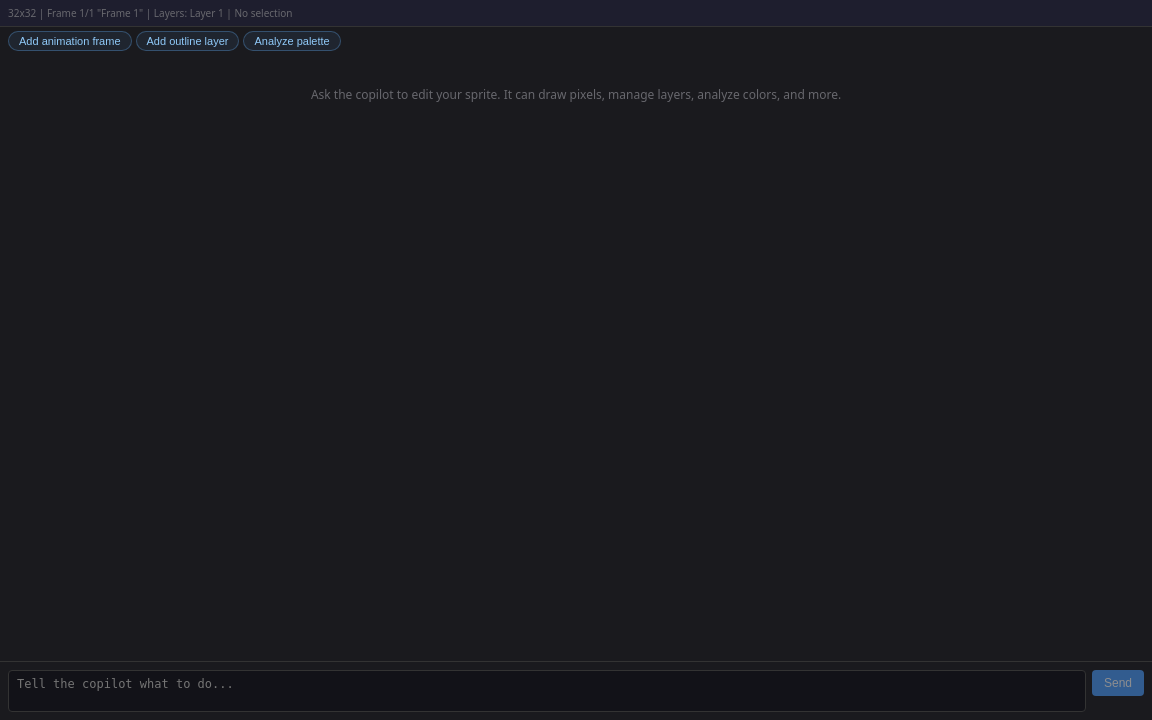
CopilotPanel › enables send button when input has text
Type "Hello" into the text box with test id "copilot-input".
click(547, 691); type("Hello")  # box [8,670,1086,712]
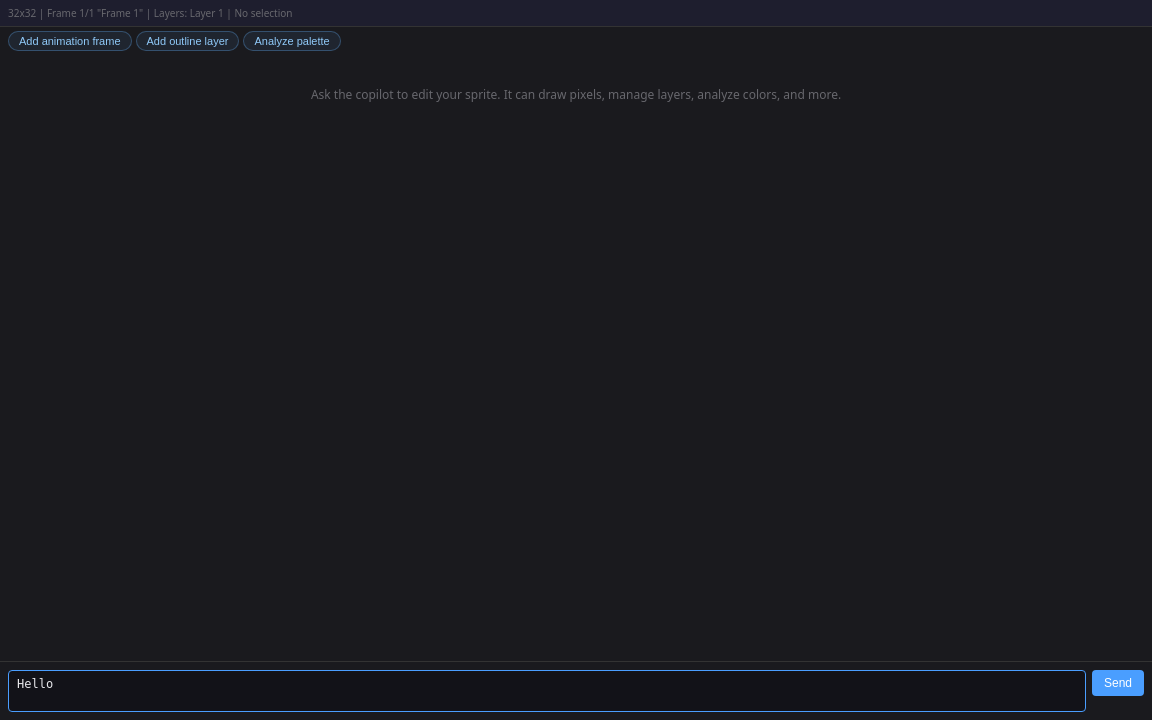
Expected: the button with test id "send-btn" is enabled, [1092,670,1144,696]
